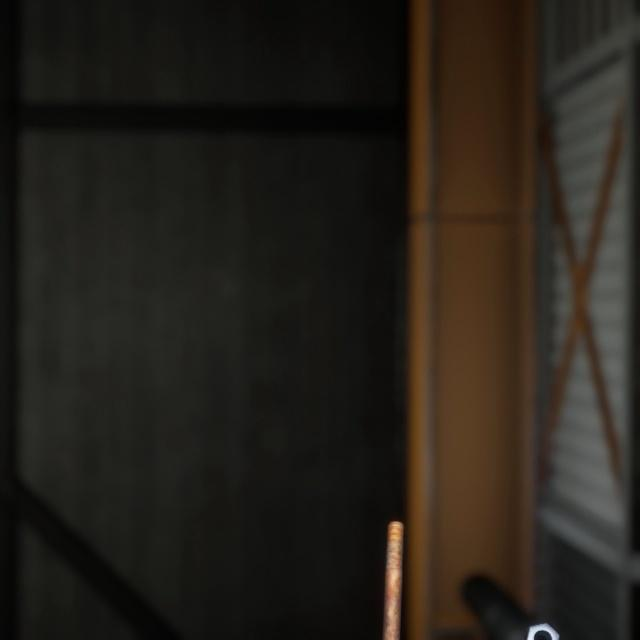bolt: (377, 495, 408, 640)
nut: (519, 594, 564, 640)
